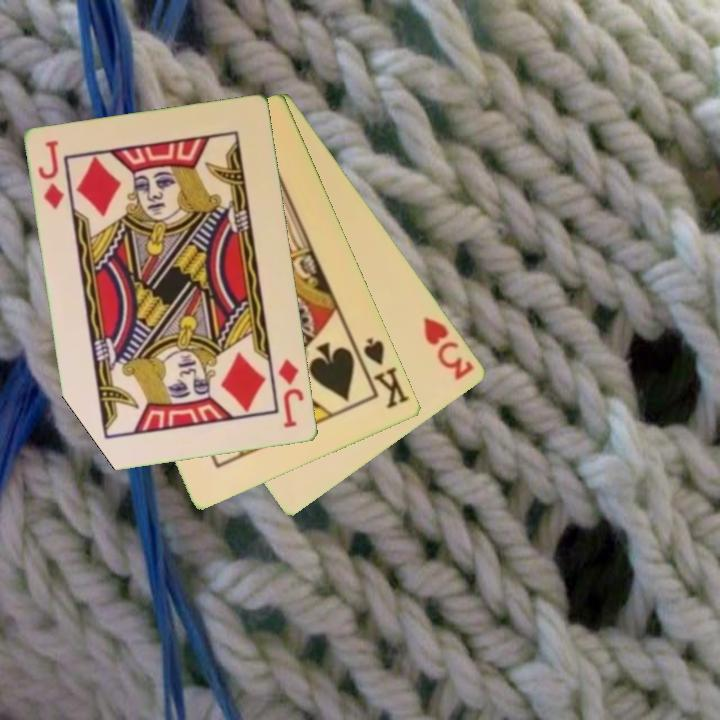3h: (420, 313, 478, 384)
Jd: (35, 137, 68, 213), (275, 356, 308, 431)
Ks: (360, 334, 413, 412)
